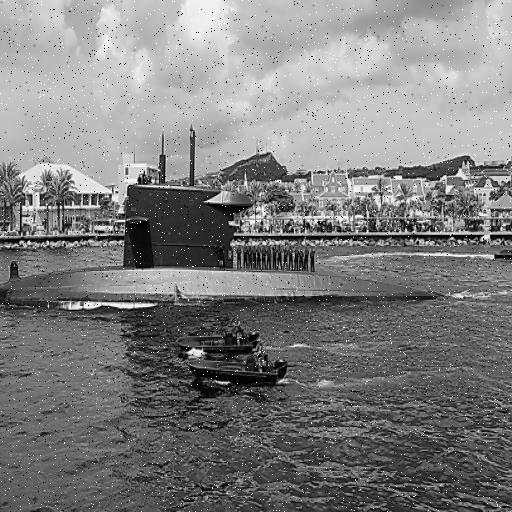submarine: (1, 131, 462, 306)
